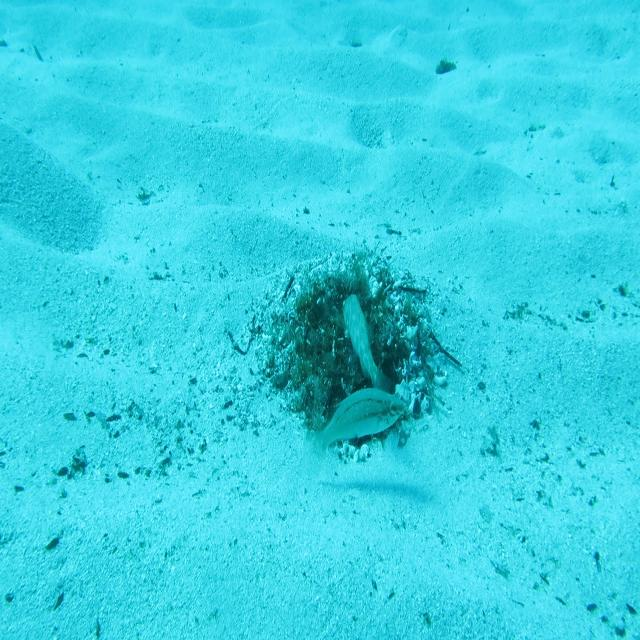vegetation: (435, 58, 458, 75)
